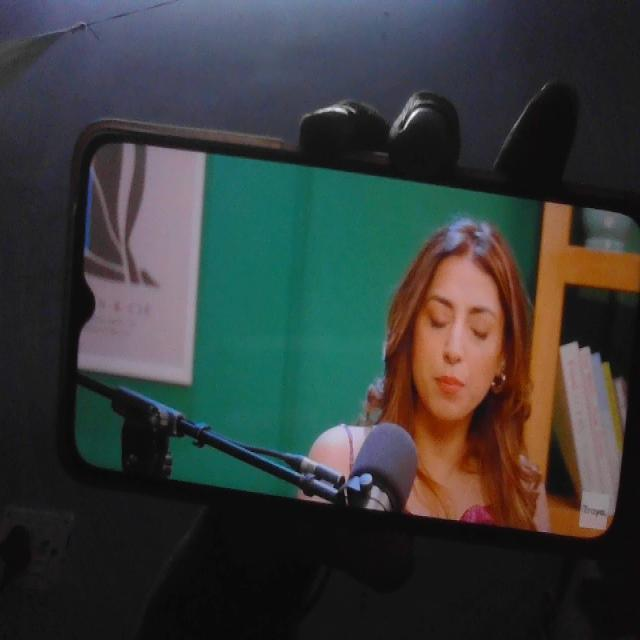fake: (399, 217, 510, 428)
